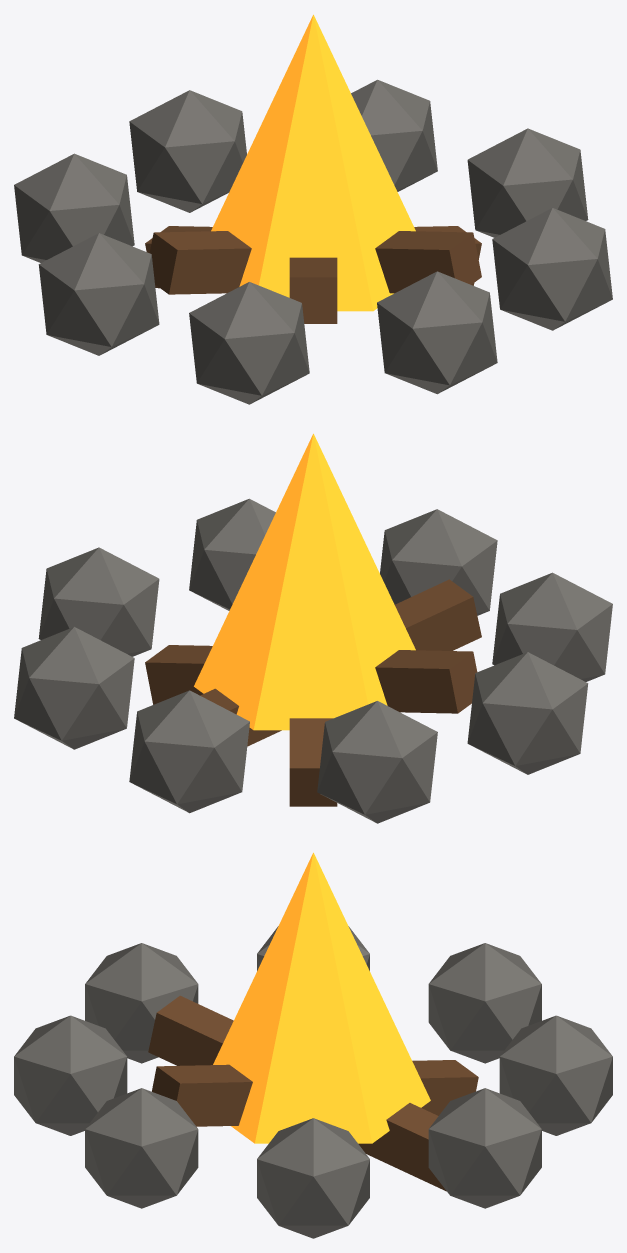
The model's file is campfire.glb.
3 views of the same model, one above another, from view 1: azimuth 30°, elevation 25°; view 2: azimuth 150°, elevation 25°; view 3: azimuth 270°, elevation 25° (orthographic).
Visible parts, largest first — view 1: campfire; view 2: campfire; view 3: campfire.
Part boxes in pixels (<box>): campfire: <box>14,14,612,404</box>; campfire: <box>14,433,612,823</box>; campfire: <box>14,852,612,1238</box>.
Bounding box in the file's own units: 1.54 × 0.8322 × 1.53.
